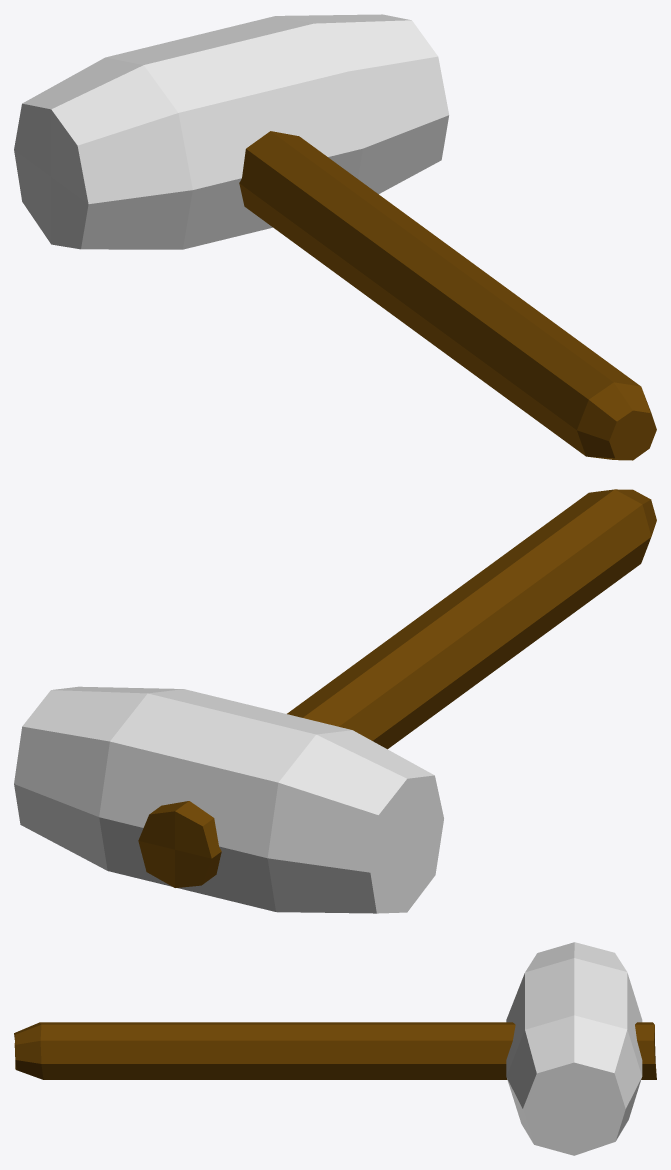
The model's file is hammer.fbx.
The picture shows the model from 3 angles, top to bottom: view 1: azimuth 30°, elevation 25°; view 2: azimuth 150°, elevation 25°; view 3: azimuth 270°, elevation 25°; orthographic projection. The views are drawn at different scales.
Visible parts, largest first — view 1: Head, Handle; view 2: Head, Handle; view 3: Handle, Head.
Part boxes in pixels (x1,y1,x2,y2): Head: (14, 14, 449, 249); Handle: (239, 131, 656, 460); Head: (14, 686, 443, 913); Handle: (138, 489, 656, 887); Handle: (14, 1022, 656, 1079); Head: (506, 942, 642, 1155).
Size of the model in its own units: 49.85 by 23.44 by 111.
